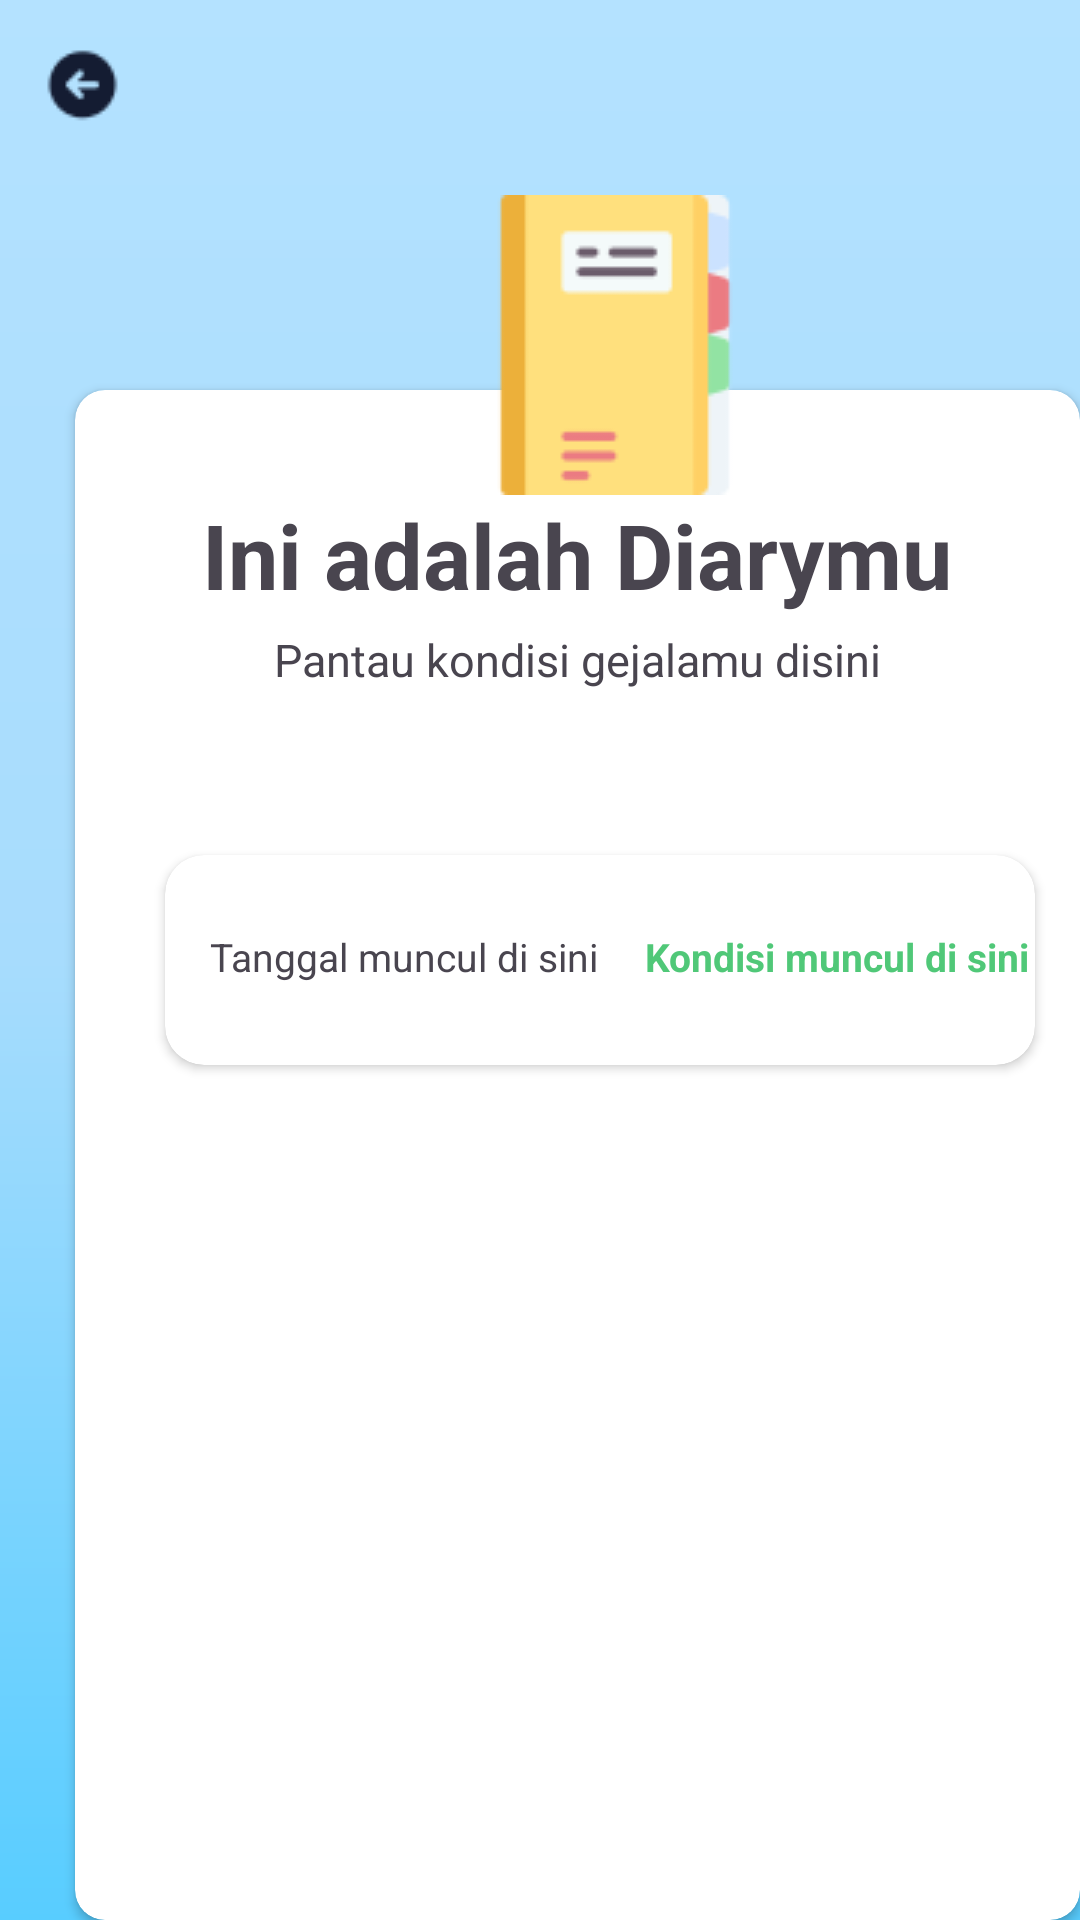

Icon click points for this 1080 x 1920 phone screenshot, format [x,y]:
back: [82,85]
buku: [615,345]
